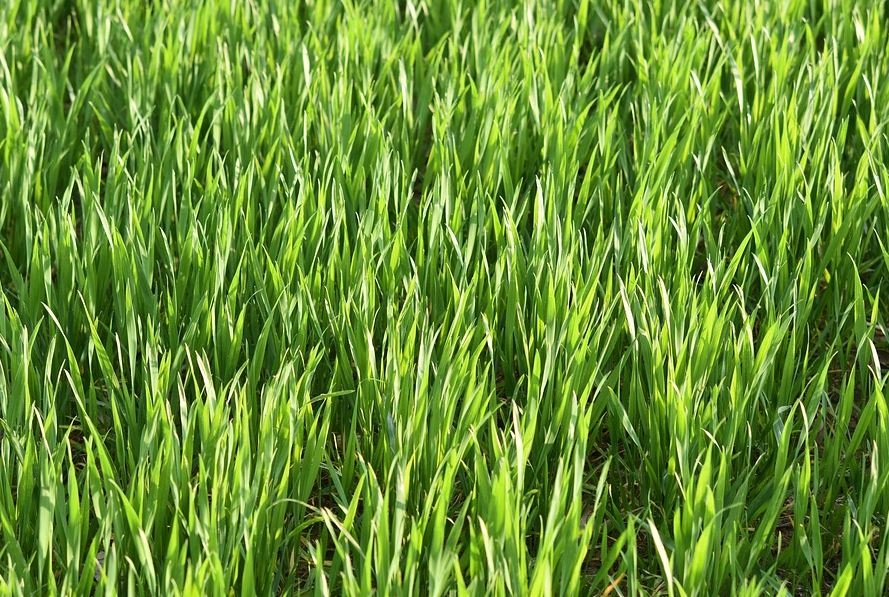Wheat: (72, 117, 563, 544)
